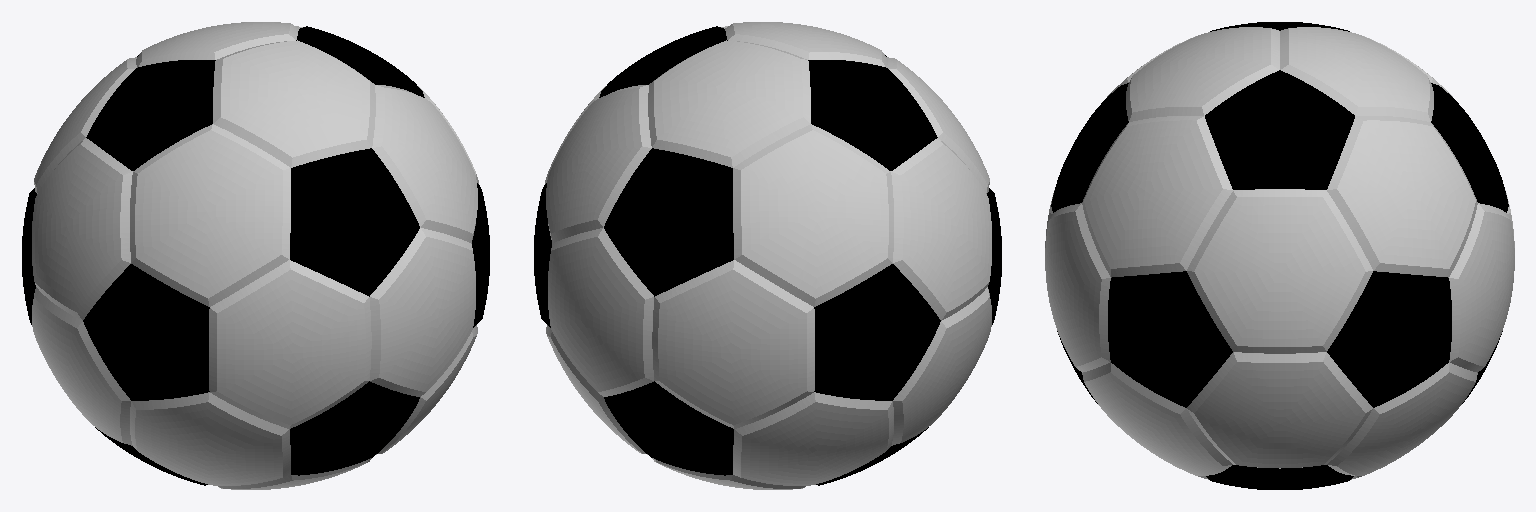
The picture shows the model from 3 angles: view 1: azimuth 30°, elevation 25°; view 2: azimuth 150°, elevation 25°; view 3: azimuth 270°, elevation 25°; orthographic projection.
Parts seen in each view (by area): view 1: football_Solid.001; view 2: football_Solid.001; view 3: football_Solid.001.
Part boxes in pixels (bbox=[...]): football_Solid.001: bbox=[22, 22, 489, 489]; football_Solid.001: bbox=[534, 22, 1001, 489]; football_Solid.001: bbox=[1045, 22, 1514, 489].
Bounding box in the file's own units: 1.94 × 1.94 × 1.94.